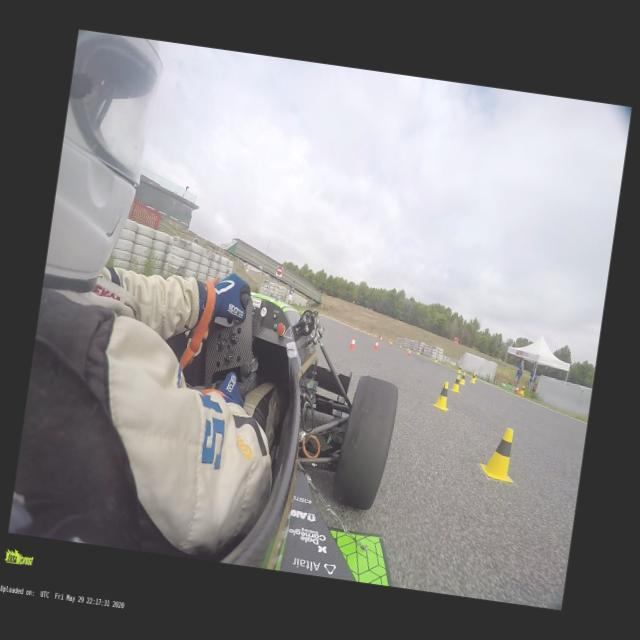orange_cone: (348, 336, 357, 351), (512, 384, 520, 396), (373, 341, 379, 352), (407, 348, 412, 357), (389, 341, 393, 347)
yellow_cone: (480, 426, 520, 484), (432, 381, 452, 412), (450, 374, 462, 394), (458, 372, 468, 386), (469, 372, 477, 384), (518, 386, 526, 396), (456, 365, 462, 374), (472, 372, 477, 381), (433, 355, 438, 363), (416, 350, 421, 356), (406, 346, 410, 351)
